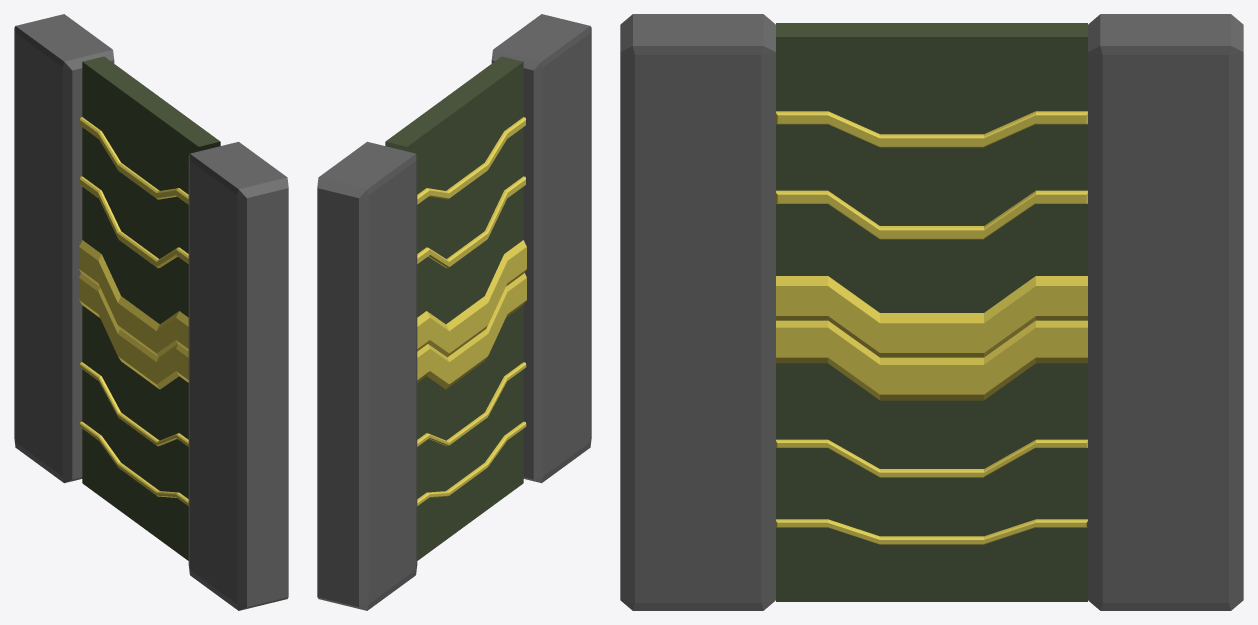
The model's file is door0003.fbx.
3 renders of one model, left to right at view 1: azimuth 30°, elevation 25°; view 2: azimuth 150°, elevation 25°; view 3: azimuth 270°, elevation 25°, orthographic. The views are drawn at different scales.
Visible parts, largest first — view 1: Cube.001, Cube.002, Cube; view 2: Cube.001, Cube.002, Cube; view 3: Cube.001, Cube.002, Cube.
Boxes of the visible parts, box(x1,y1,x2,y2) form: Cube.001: box(14, 14, 288, 610); Cube.002: box(79, 56, 220, 357); Cube: box(79, 273, 188, 560); Cube.001: box(317, 14, 591, 610); Cube.002: box(385, 56, 526, 357); Cube: box(417, 273, 526, 560); Cube.001: box(620, 14, 1243, 610); Cube.002: box(776, 23, 1087, 357); Cube: box(776, 320, 1087, 601).
Size of the model in its own units: 100 by 800 by 800.
